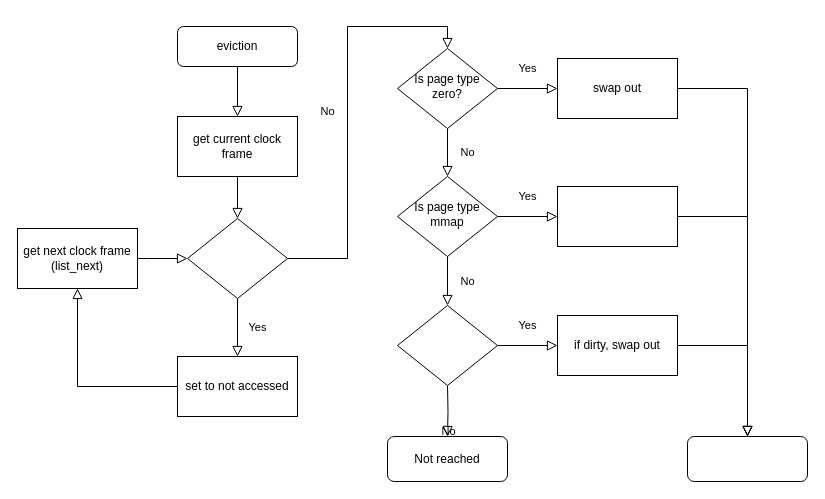
Image size: 825x499. Some labels were removed from this diagram. Each missing label, with the centre of its shape:
"if dirty, write back" goes at point 617,216.
"is accessed" goes at point 237,258.
"is page type file" goes at point 447,345.
"return evicted frame" goes at point 747,459.
